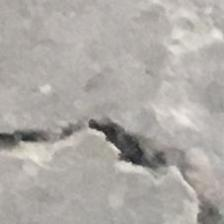Crack: (0, 113, 224, 224)
